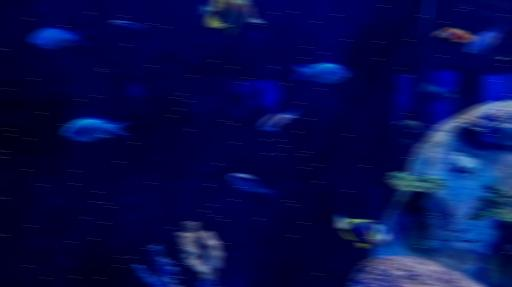Fish: (198, 0, 261, 34), (336, 215, 389, 247), (61, 117, 128, 141), (30, 28, 85, 49), (290, 63, 347, 83), (228, 173, 275, 197), (467, 25, 504, 53), (258, 109, 297, 132), (434, 27, 475, 44), (110, 20, 145, 30)
